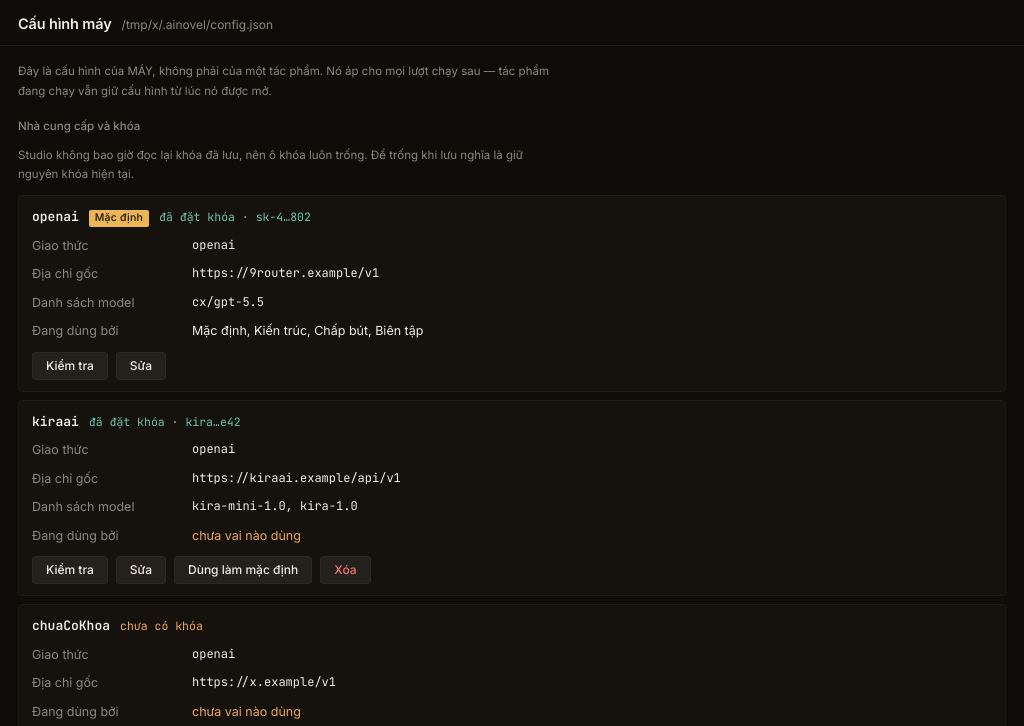
Test: lỗi của một thẻ KHÔNG dán lên thẻ khác
Check: the list item with class "nccMuc" that starts with "kiraai" is shown, box [18, 400, 1006, 596]
Step 1. Click the button "Kiểm tra" below "đã đặt khóa · kira…e42" → point(70, 570), box [32, 556, 108, 584]
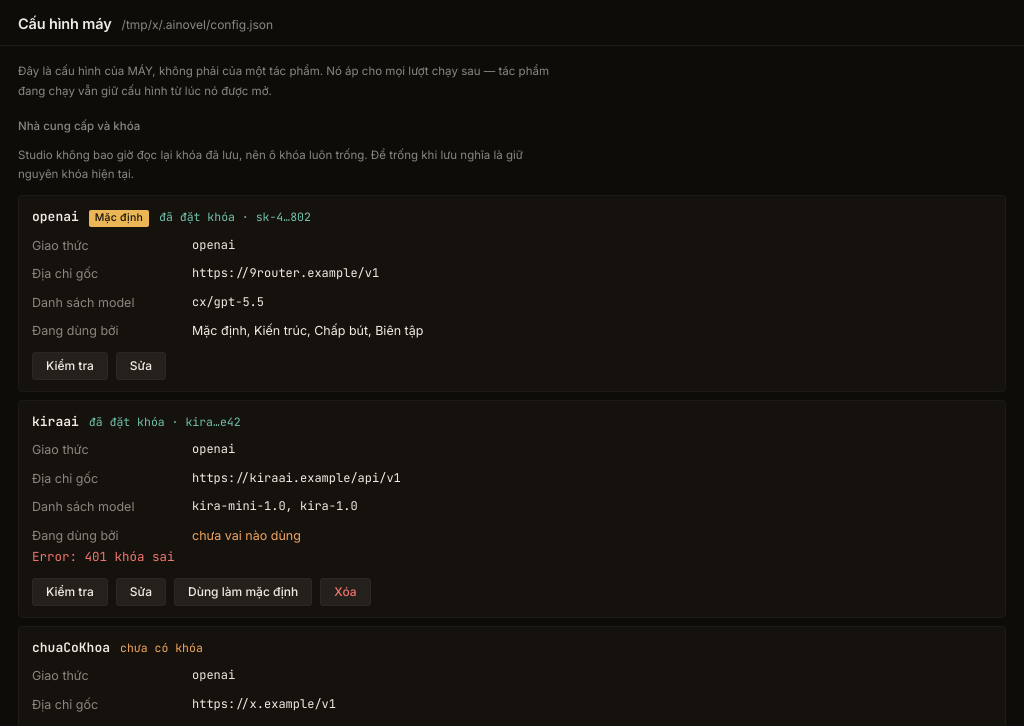
Check: the list item with class "nccMuc" that starts with "kiraai" is shown, box [18, 400, 1006, 618]
Check: the list item with class "nccMuc" shows "401 khóa sai", box [32, 548, 174, 565]
